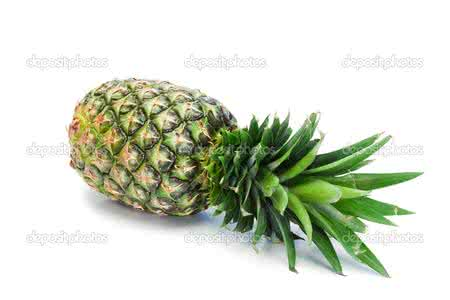pineapple: (55, 72, 411, 273)
